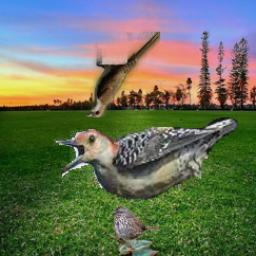Cuckoo: (86, 33, 161, 118)
Sparrow: (111, 205, 160, 251)
Woodpecker: (53, 115, 238, 200)
